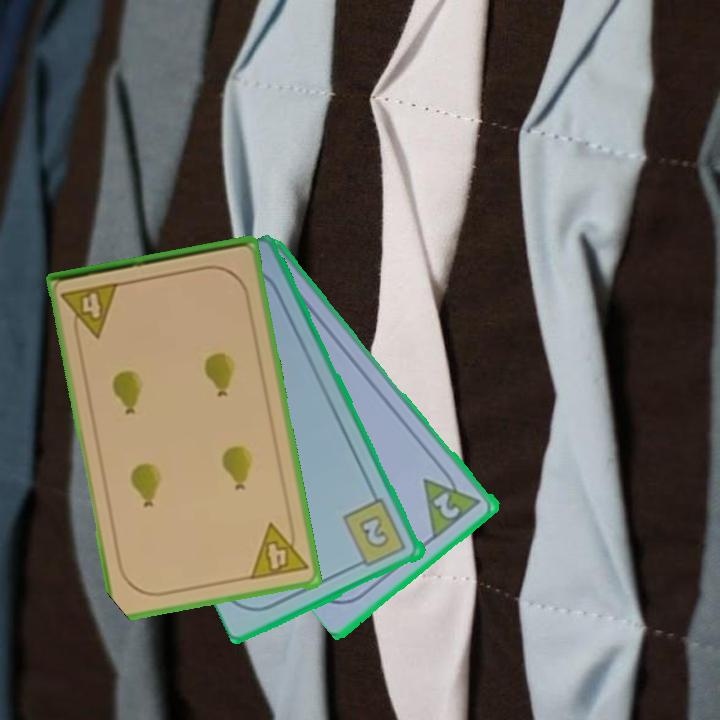2b: (340, 495, 410, 571)
2p: (419, 462, 485, 541)
4p: (246, 517, 311, 583), (58, 279, 123, 344)
